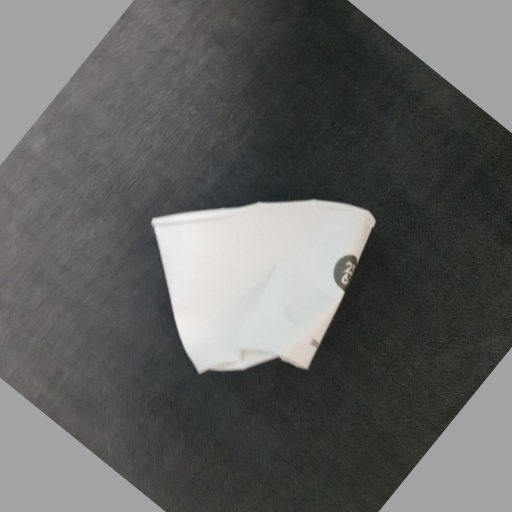Paper_1: (145, 193, 379, 372)
